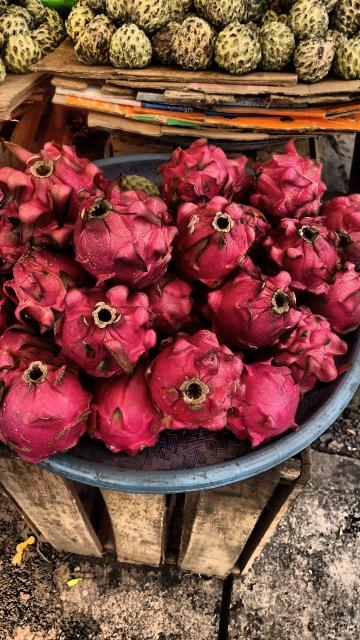buah-naga-matang: (0, 346, 96, 470), (0, 129, 96, 249), (46, 278, 158, 378), (63, 184, 169, 284), (142, 337, 236, 429), (146, 128, 248, 212), (202, 257, 298, 343), (162, 196, 254, 284), (78, 359, 166, 451), (255, 212, 345, 298), (1, 240, 86, 328), (247, 140, 329, 220), (224, 356, 302, 440), (270, 304, 347, 386)
